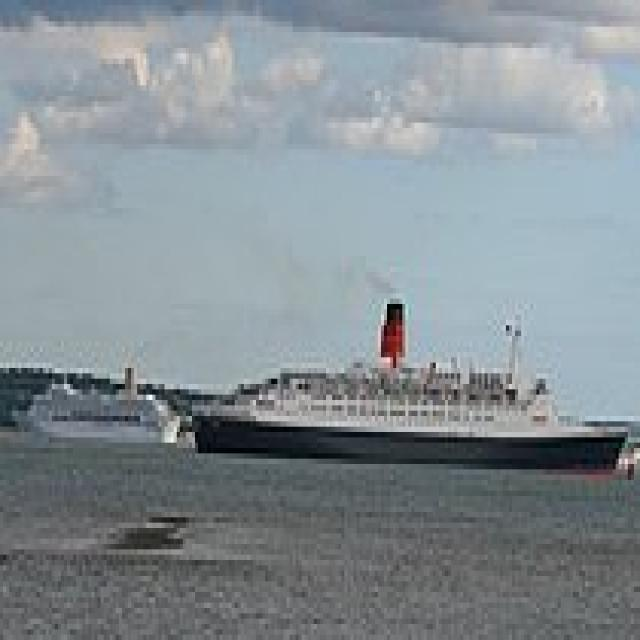Cruise: (186, 288, 631, 480), (3, 357, 177, 448)
